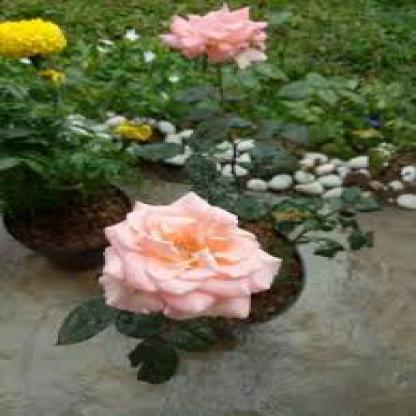Rose-Mawar: (96, 189, 289, 324), (158, 3, 274, 65)
